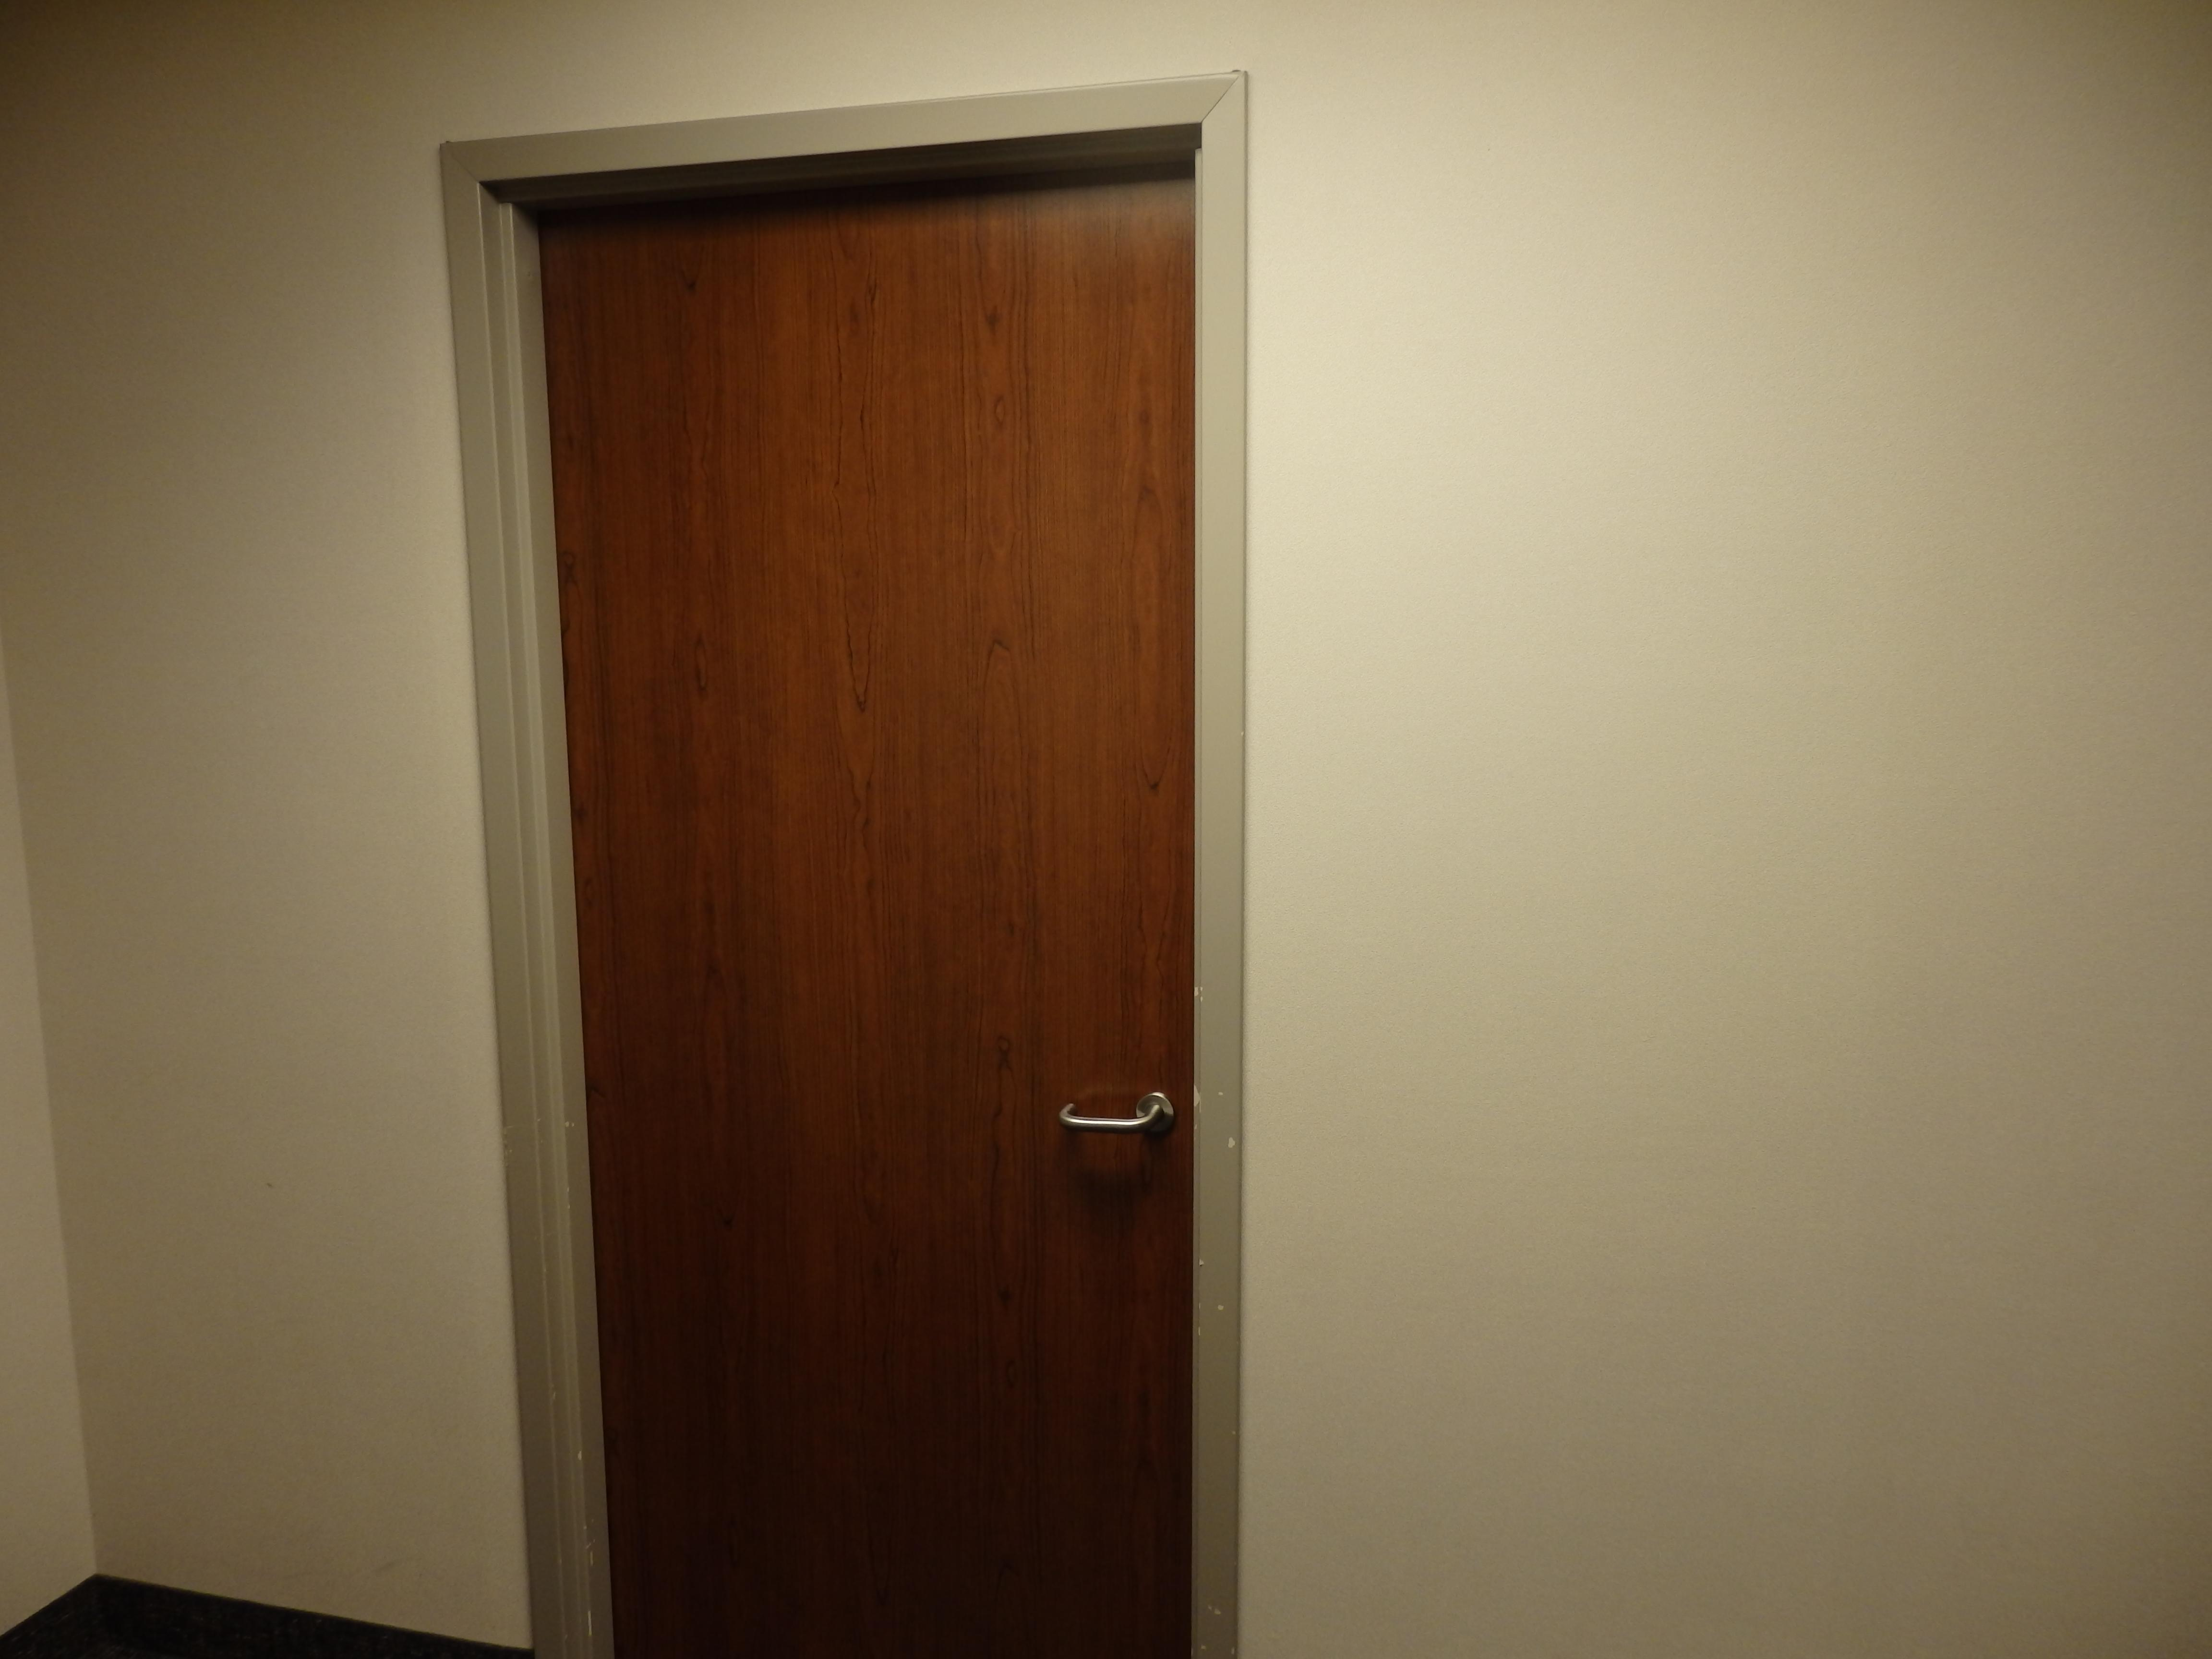door: (502, 127, 1226, 1647)
